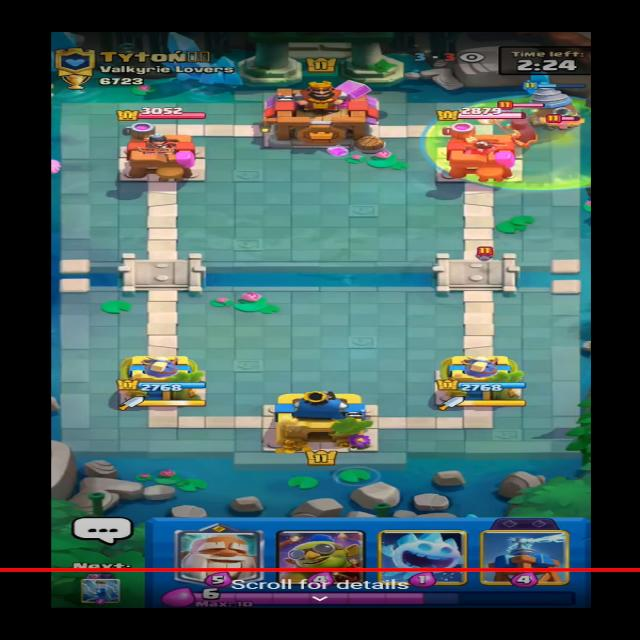bats: (461, 247, 516, 263), (549, 117, 584, 134)
night-witch: (504, 111, 542, 147)
